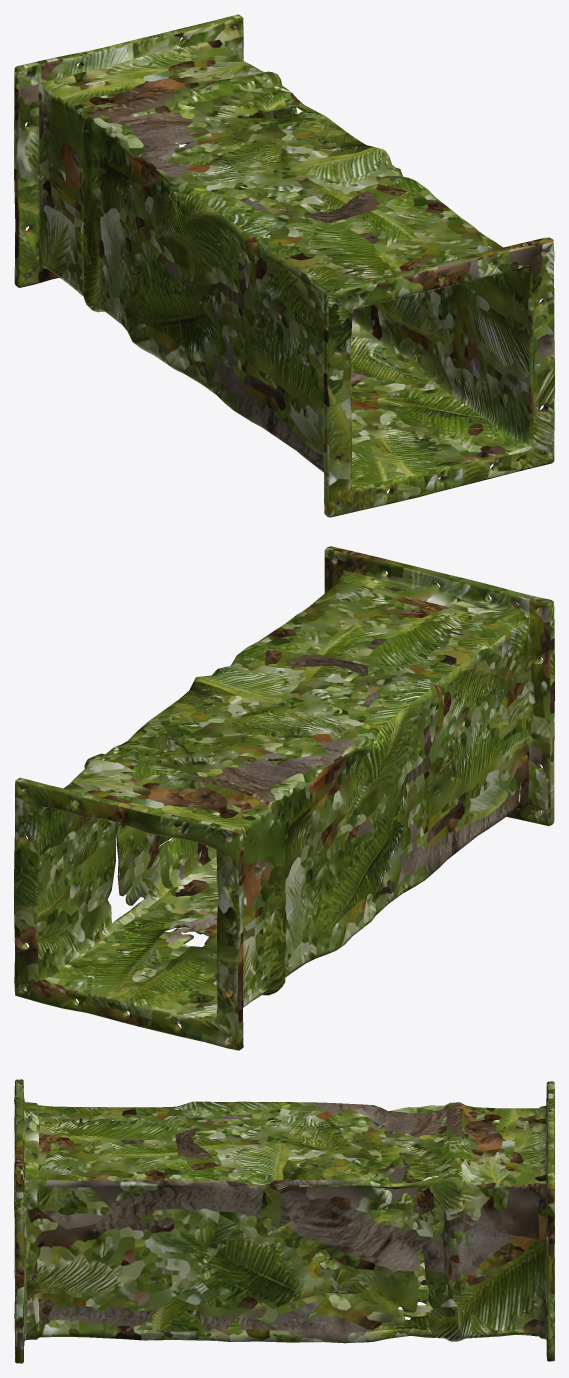
Rendered from tongfengguan_01.fbx.
3 views of the same model, one above another, from view 1: azimuth 30°, elevation 25°; view 2: azimuth 150°, elevation 25°; view 3: azimuth 270°, elevation 25° (orthographic). The views are drawn at different scales.
Parts seen in each view (by area): view 1: mesh_node; view 2: mesh_node; view 3: mesh_node.
Part boxes in pixels (x1,y1,x2,y2): mesh_node: (14,14,554,517); mesh_node: (14,546,554,1050); mesh_node: (14,1079,554,1363).
Size of the model in its own units: 0.83 by 0.7848 by 1.98.
